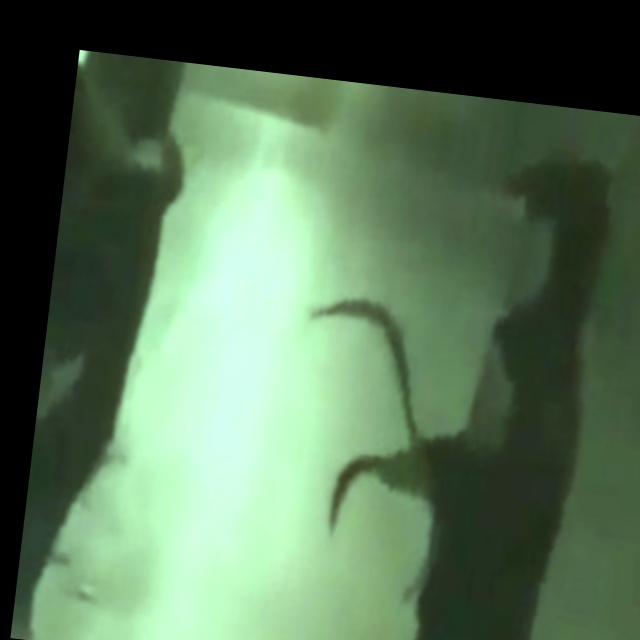Sharp-Object: (292, 277, 434, 452)
